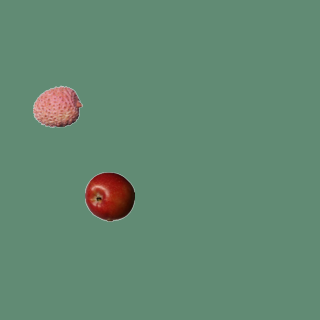Apple Braeburn: (84, 171, 134, 221)
Lychee: (32, 81, 82, 131)
